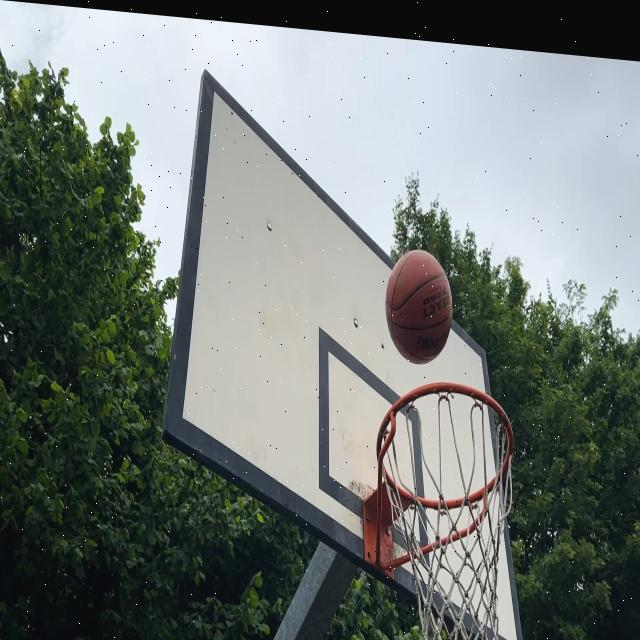Basketball: (388, 249, 452, 369)
